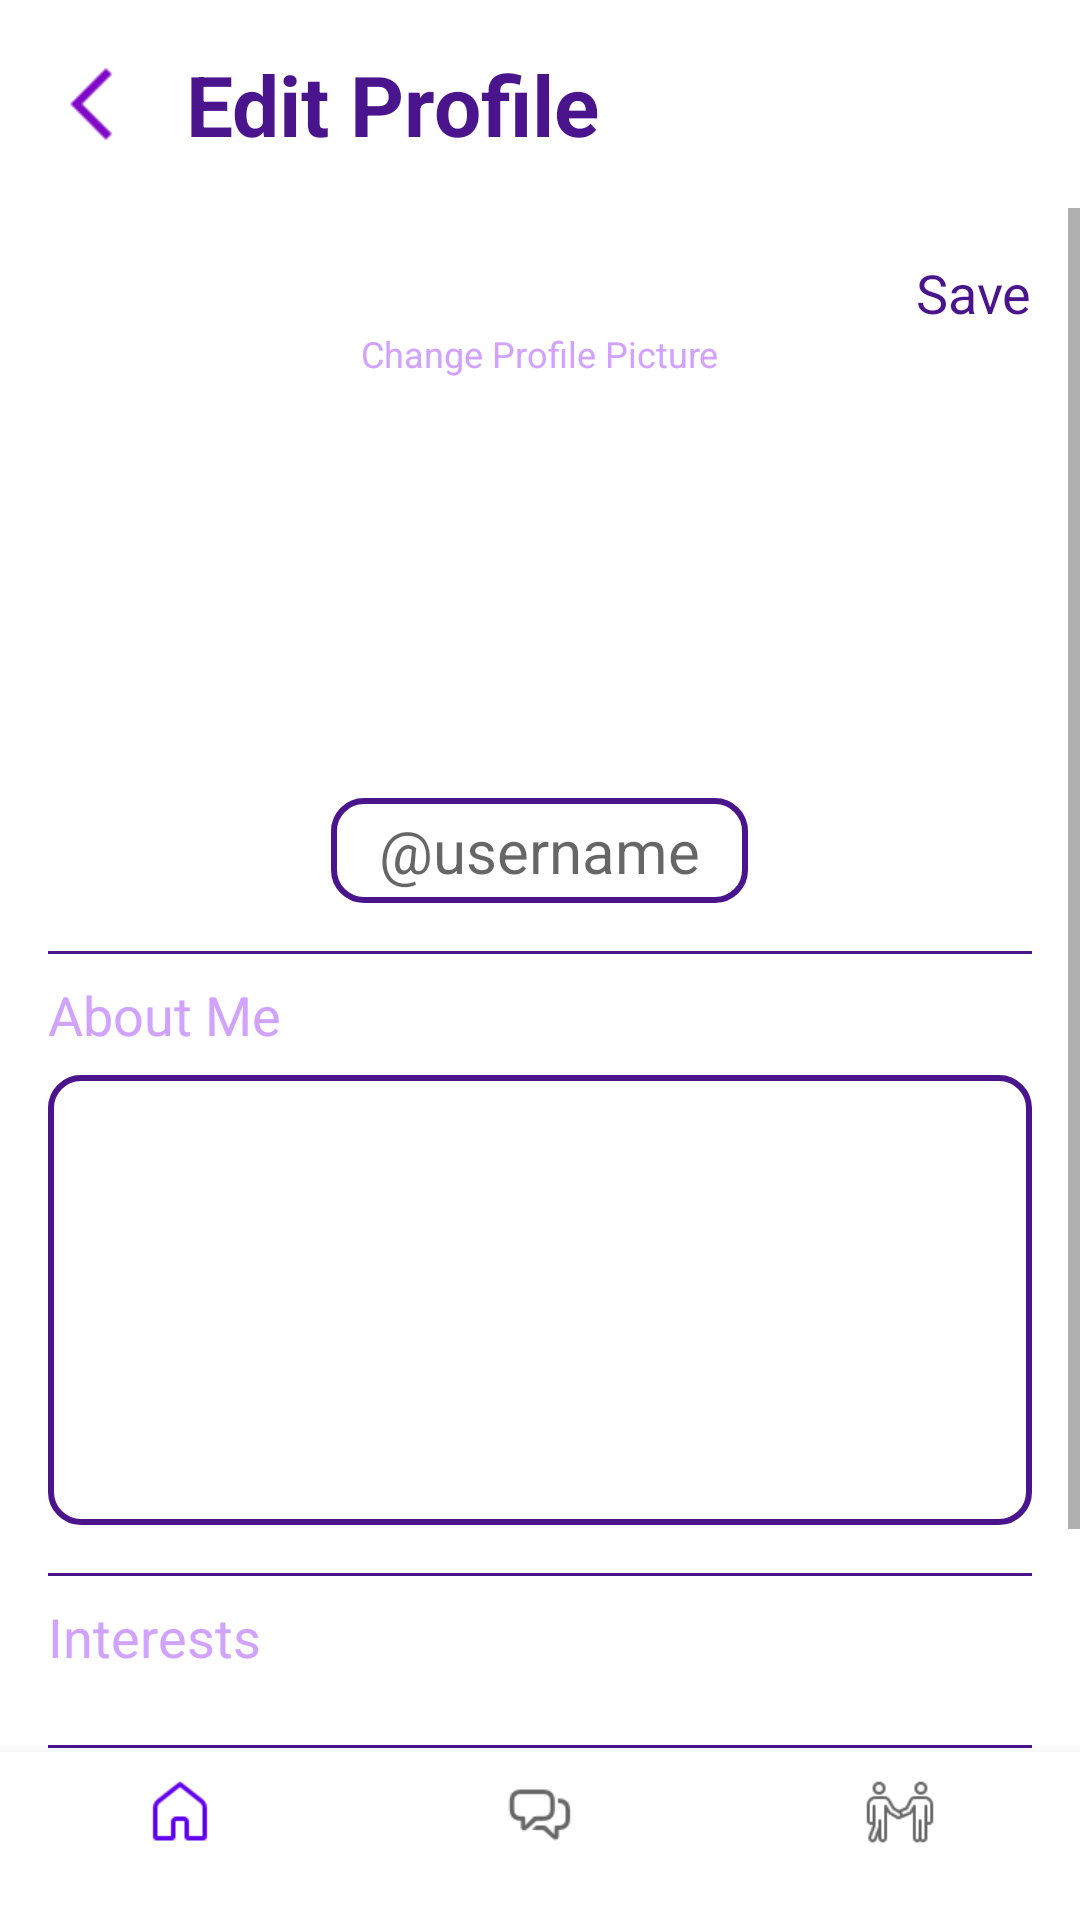

Named icons in this screenshot (1080px x 1920px) and their centers, (x,y):
back: (91,104)
